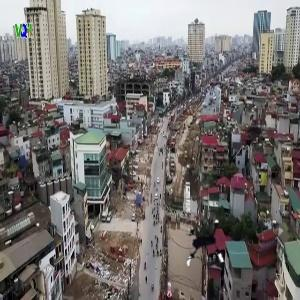drone: (179, 219, 237, 277)
